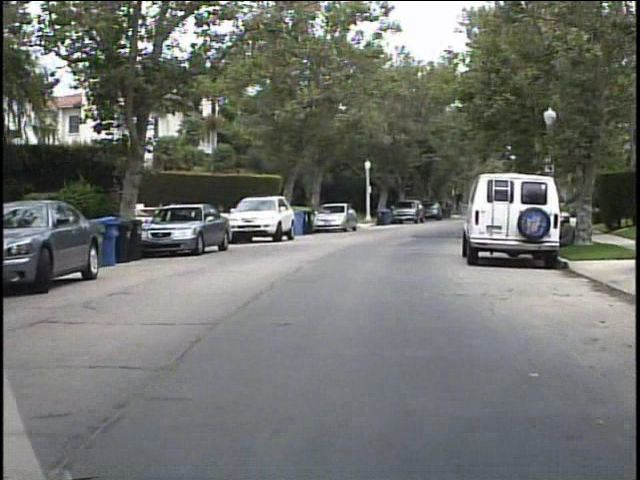person: (556, 216, 578, 252)
